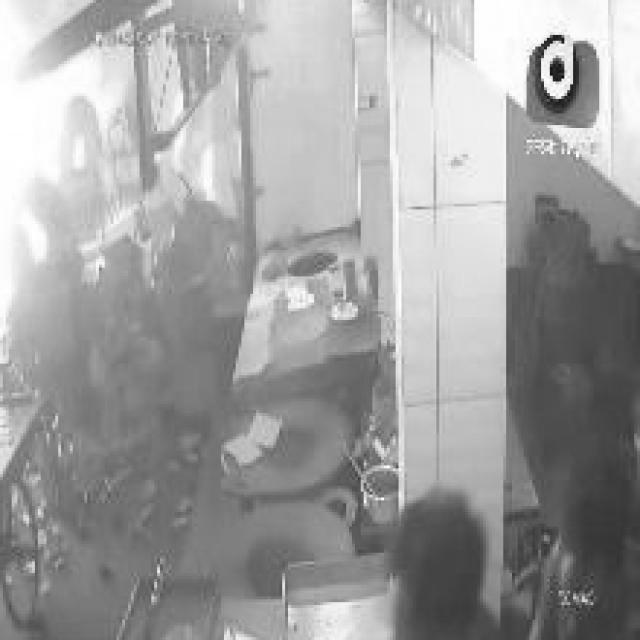smoke: (0, 0, 99, 337)
